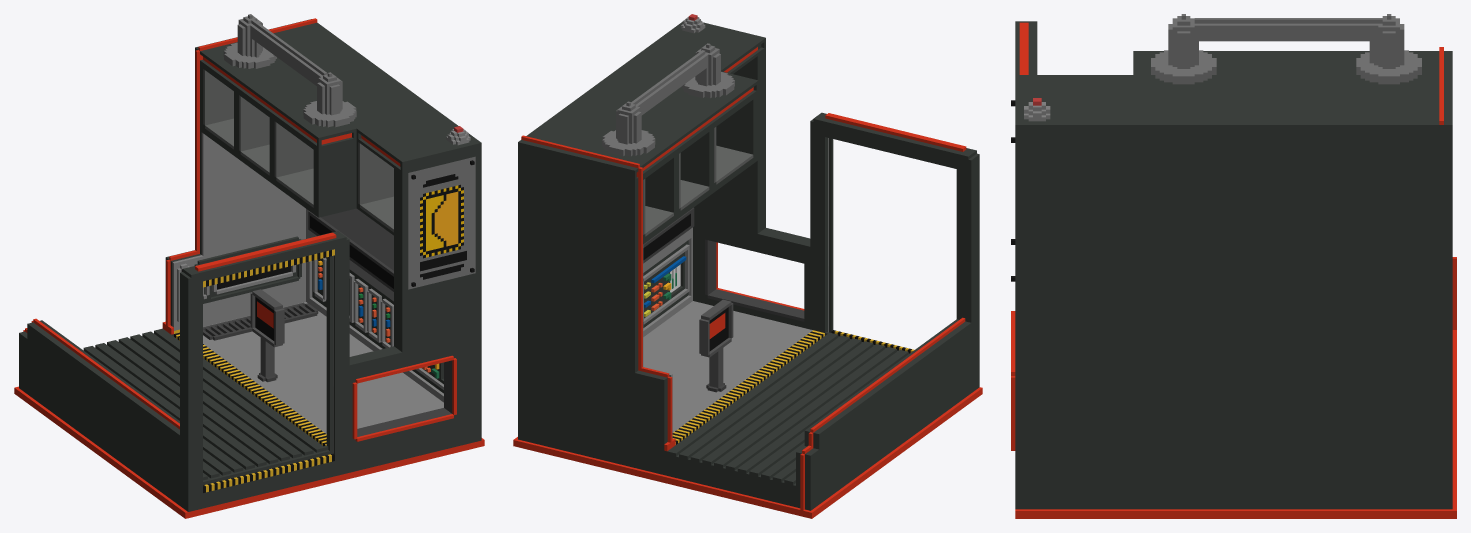
File: Room_4.1.obj
The picture shows the model from 3 angles, left to right: view 1: azimuth 30°, elevation 25°; view 2: azimuth 150°, elevation 25°; view 3: azimuth 270°, elevation 25°; orthographic projection. The views are drawn at different scales.
Size of the model in its own units: 102 by 113 by 102.
